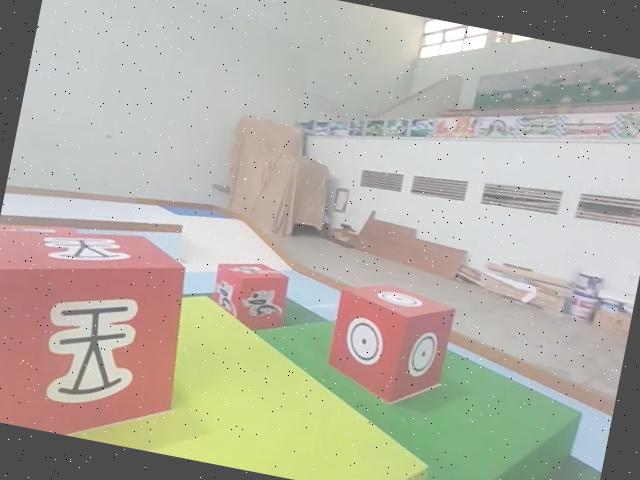R1: (202, 251, 294, 336)
R2 Real: (0, 201, 206, 454), (317, 272, 461, 413)
